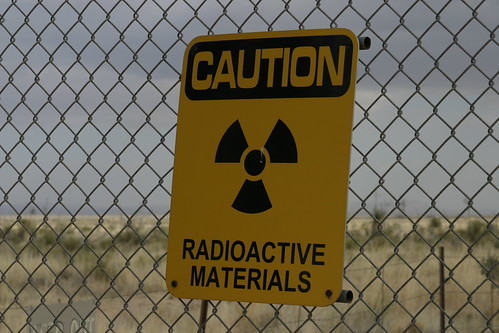sign: (170, 21, 347, 303)
